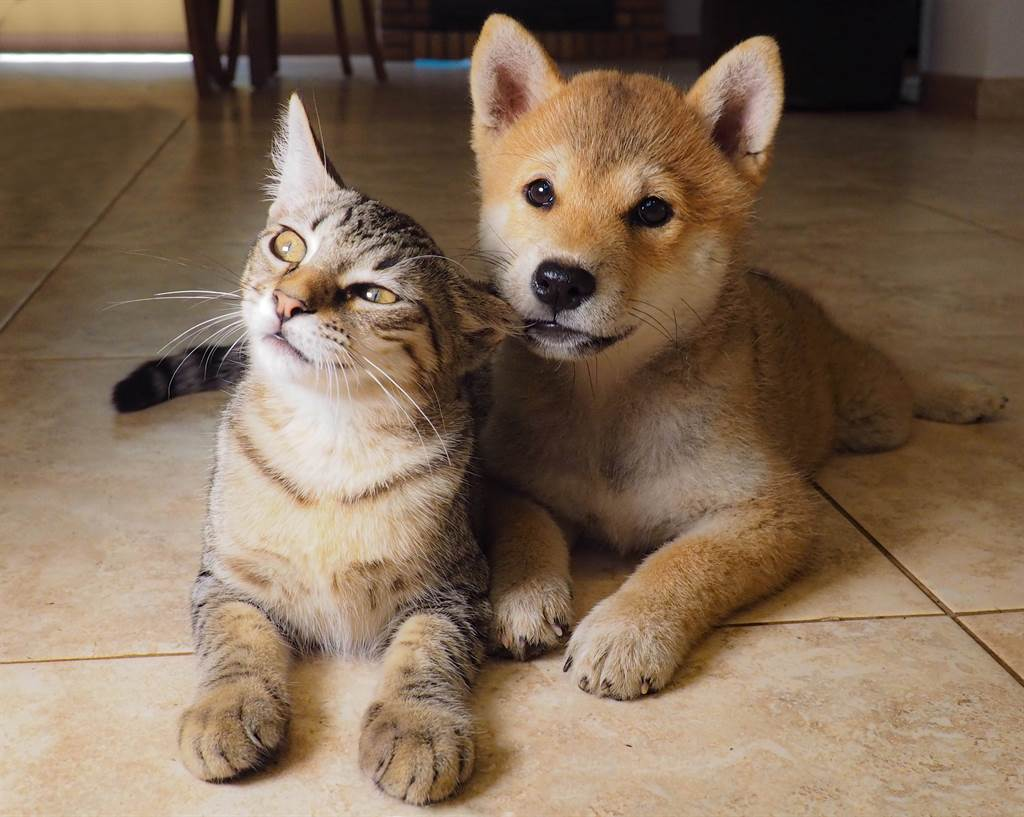cat: (184, 97, 541, 801)
dog: (452, 10, 986, 691)
